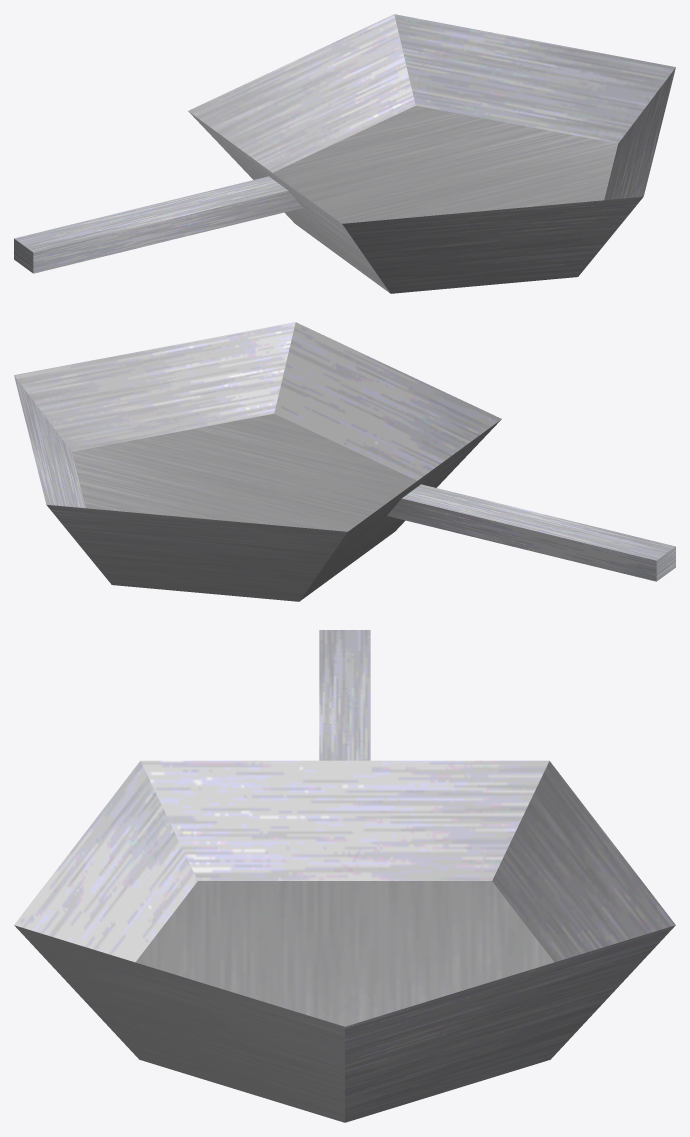
Rendered from frying_pan.fbx.
3 renders of one model, top to bottom at view 1: azimuth 30°, elevation 25°; view 2: azimuth 150°, elevation 25°; view 3: azimuth 270°, elevation 25°, orthographic. The views are drawn at different scales.
Visible parts, largest first — view 1: pCube9; view 2: pCube9; view 3: pCube9.
Boxes of the visible parts, x1=… form: pCube9: x1=14, y1=14, x2=675, y2=293; pCube9: x1=14, y1=322, x2=675, y2=601; pCube9: x1=14, y1=630, x2=675, y2=1122.
Bounding box in the file's own units: 6.96 × 1.13 × 4.61.
